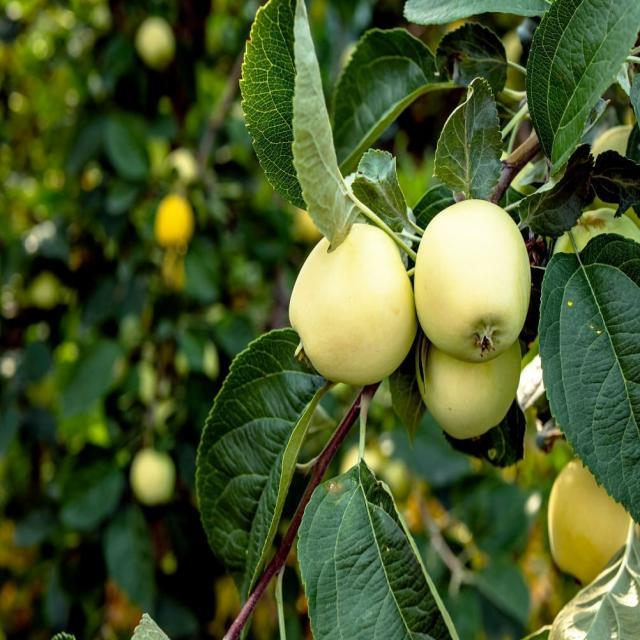Green Apple: (295, 221, 419, 387), (418, 206, 535, 351), (422, 334, 528, 436), (552, 460, 638, 583), (560, 208, 640, 275), (132, 449, 174, 506), (140, 15, 176, 71), (162, 187, 194, 245), (172, 149, 200, 183)
